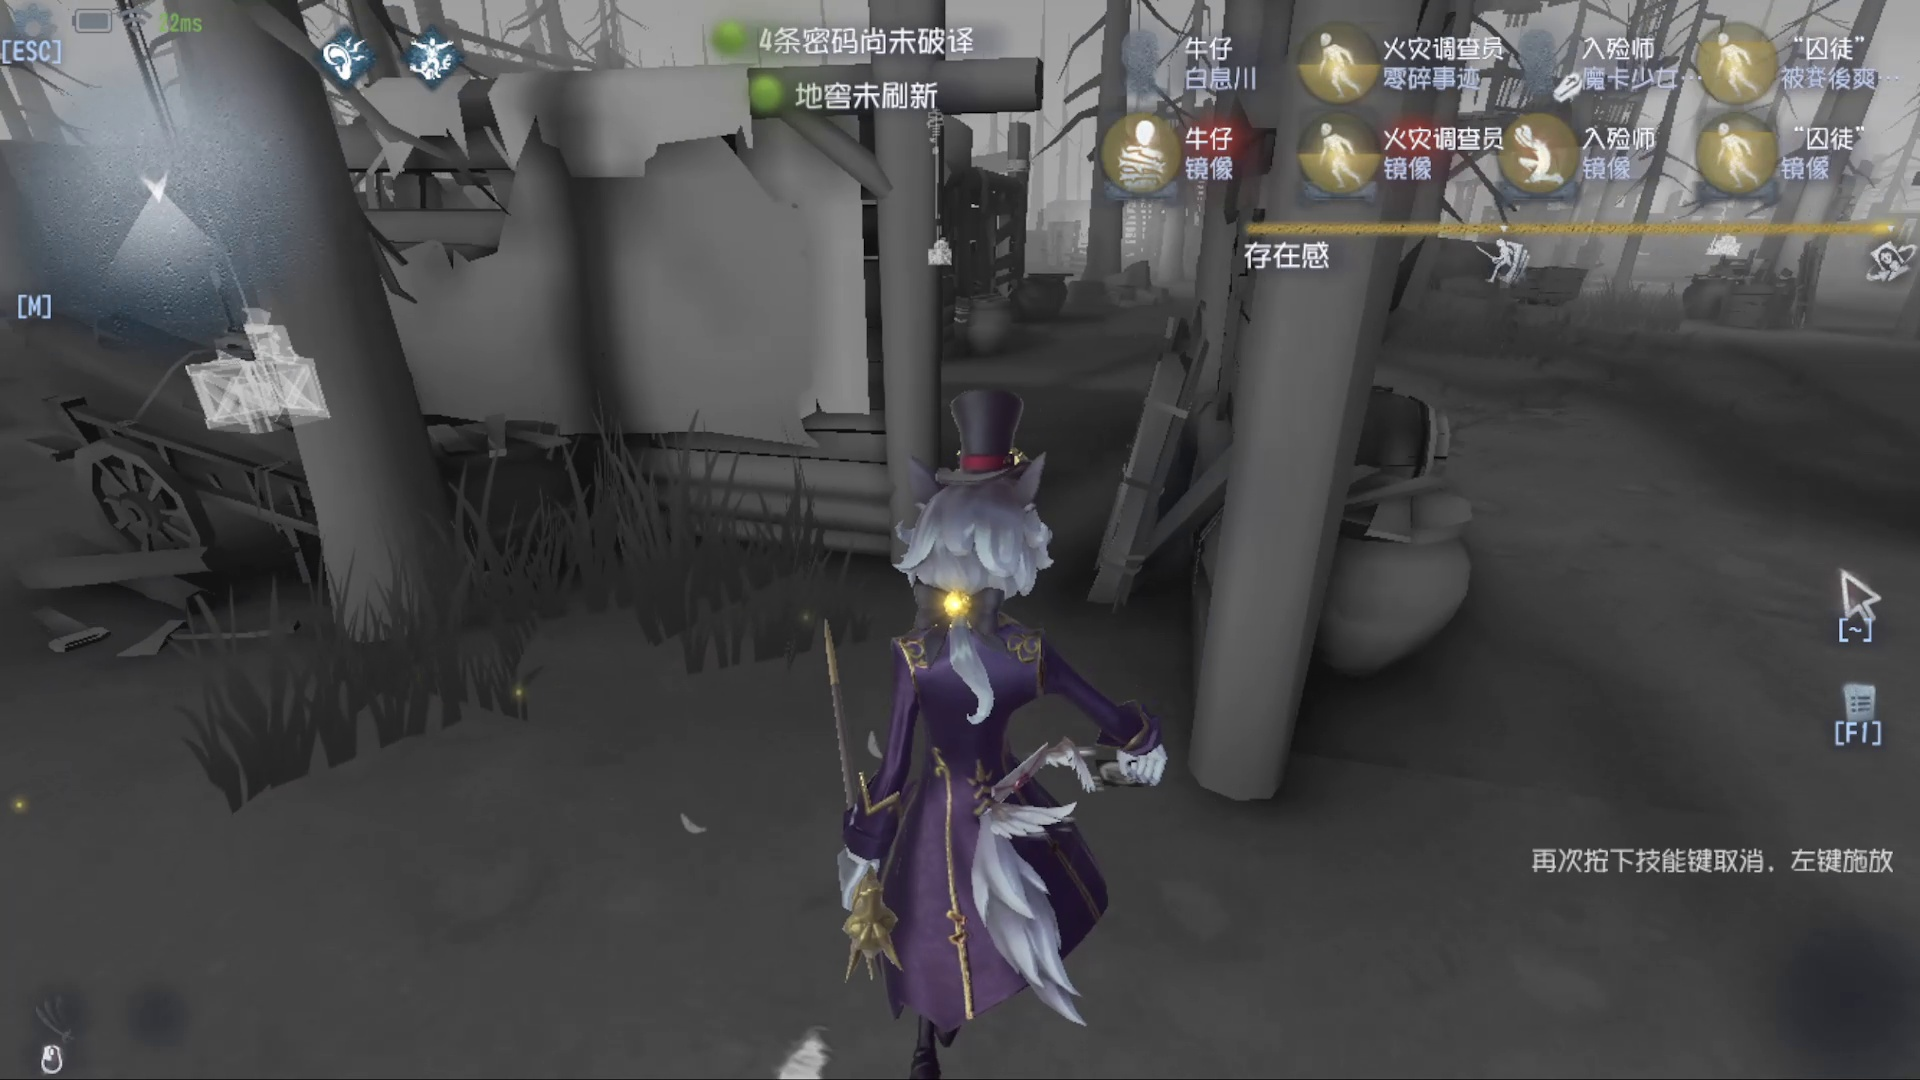密码机: (161, 276, 376, 459)
木板: (1048, 323, 1229, 626)
